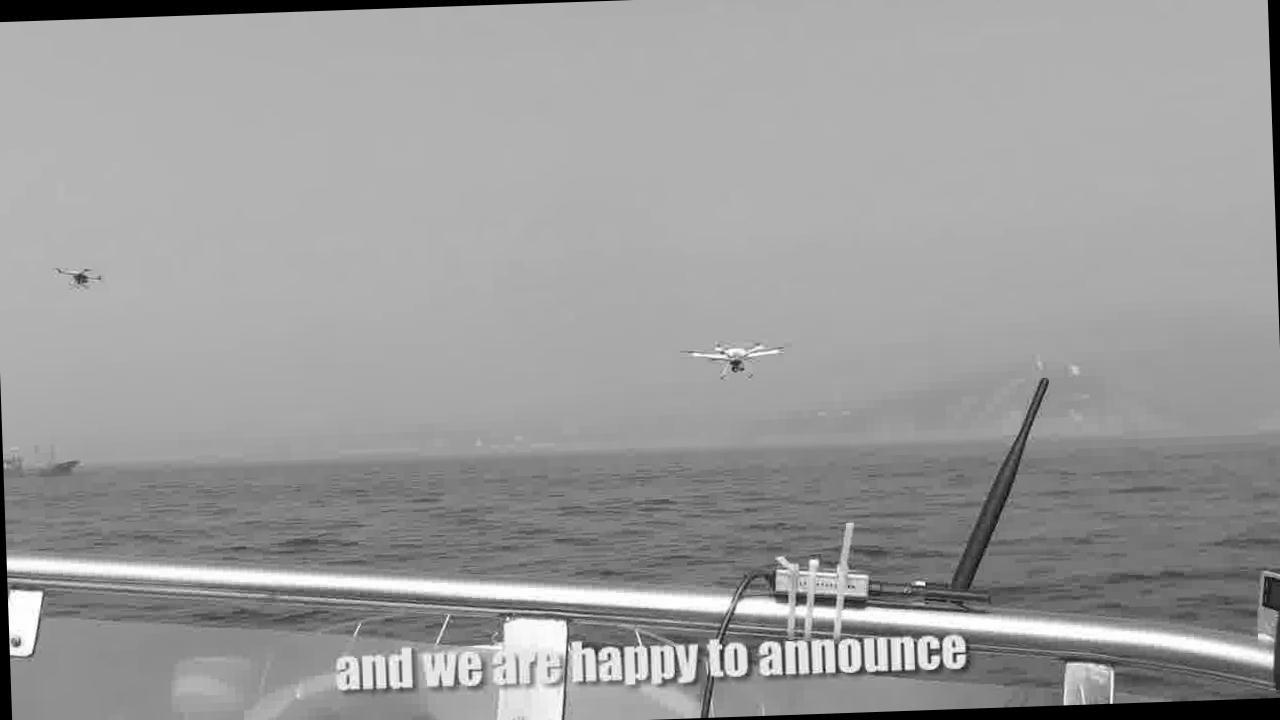drone: (679, 330, 789, 386), (51, 262, 99, 292)
